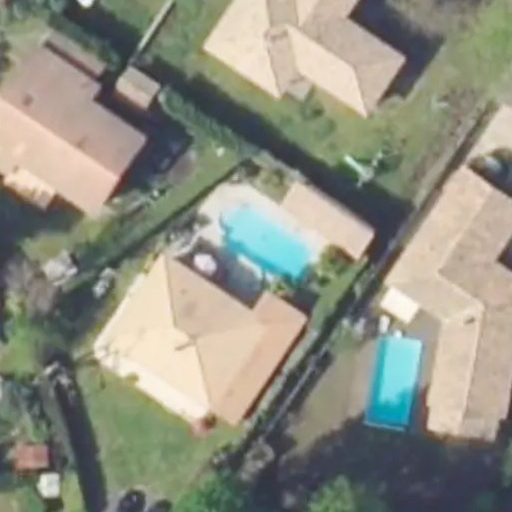pool: (216, 191, 315, 291), (370, 330, 422, 435)
